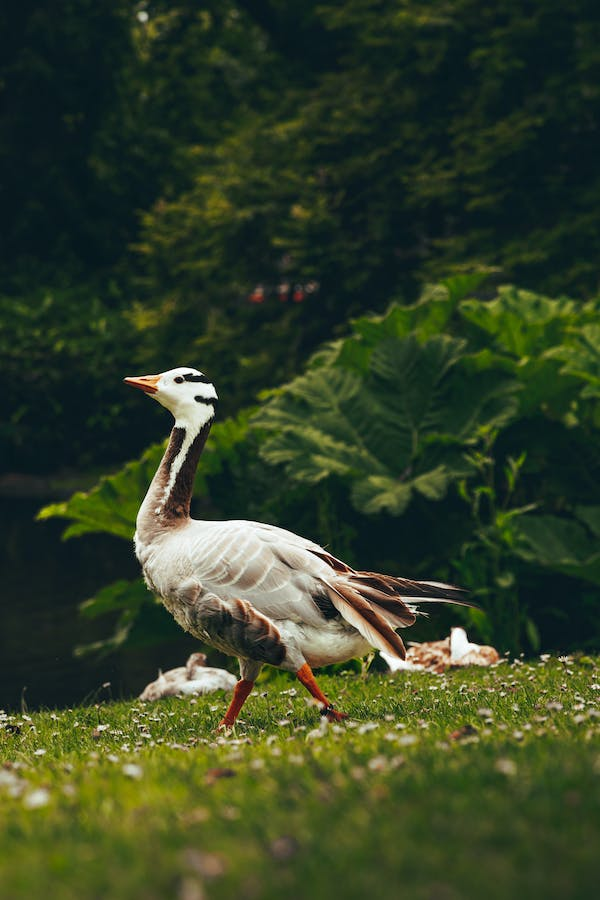Walking: (54, 287, 517, 759)
